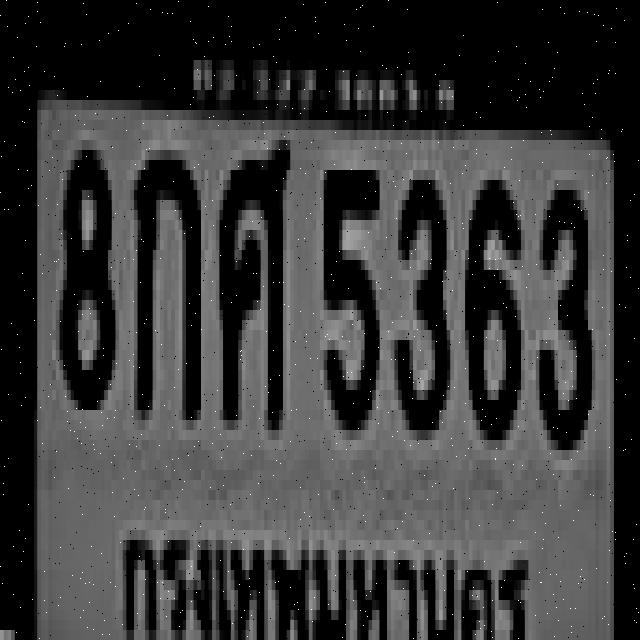10GorGai: (130, 140, 197, 410)
3: (391, 170, 446, 420), (536, 180, 588, 440)
47SorSala: (216, 130, 286, 420)
5: (320, 160, 376, 420)
6: (462, 170, 518, 430)
8: (56, 140, 111, 400)
Bangkok: (114, 520, 536, 640)
